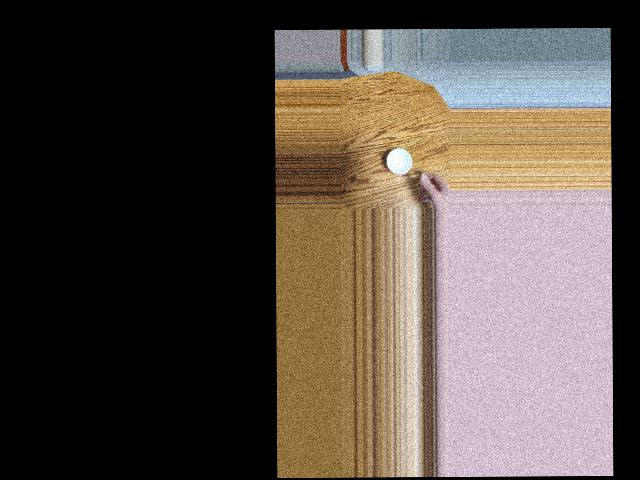cotage: (387, 148, 414, 178)
